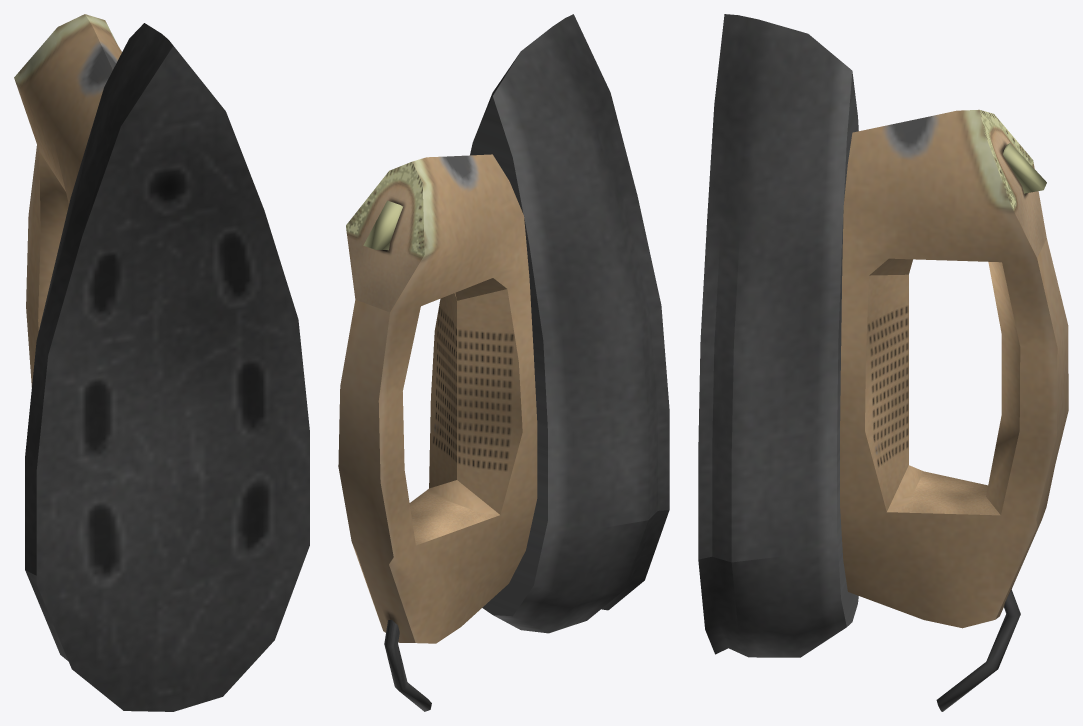
File: LegionStandardShortBlunt.fbx
3 renders of one model, left to right at view 1: azimuth 30°, elevation 25°; view 2: azimuth 150°, elevation 25°; view 3: azimuth 270°, elevation 25°, orthographic. The views are drawn at different scales.
Visible parts, largest first — view 1: Plane.002; view 2: Plane.002; view 3: Plane.002.
Part boxes in pixels (x1=…): Plane.002: x1=14, y1=14, x2=309, y2=711; Plane.002: x1=338, y1=14, x2=669, y2=711; Plane.002: x1=698, y1=14, x2=1068, y2=711.
Bounding box in the file's own units: 0.0754 × 0.2054 × 0.1023.
